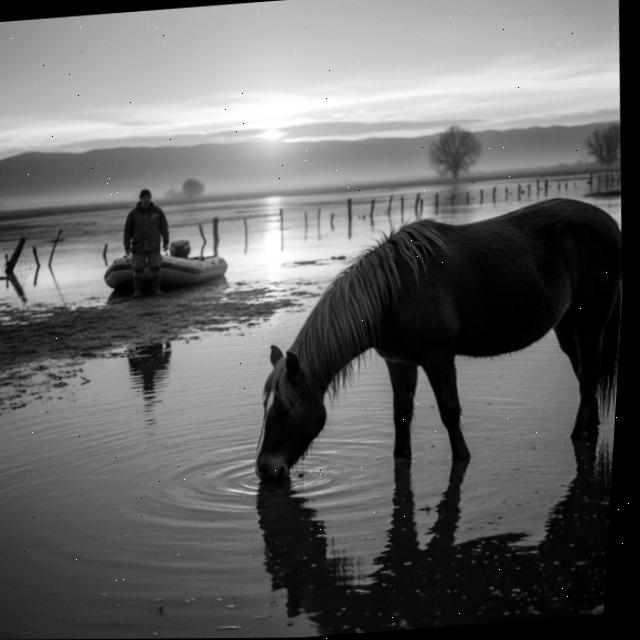civilian: (110, 179, 186, 308)
horse: (222, 181, 629, 517)
